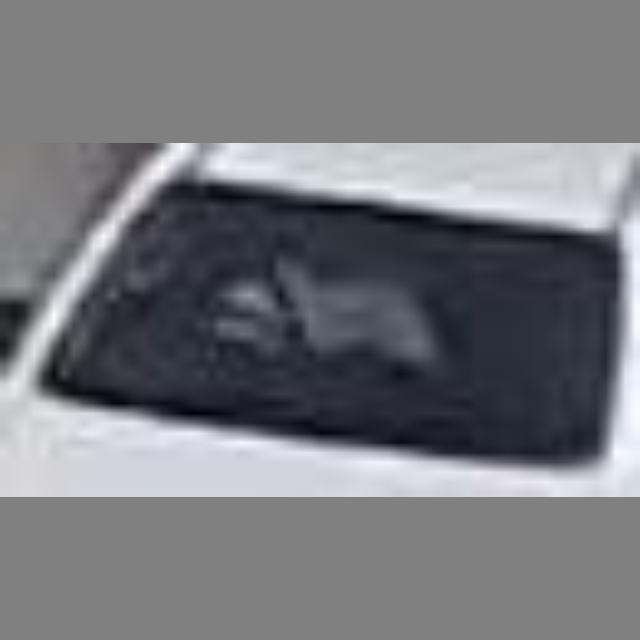pakai: (197, 251, 433, 399)
